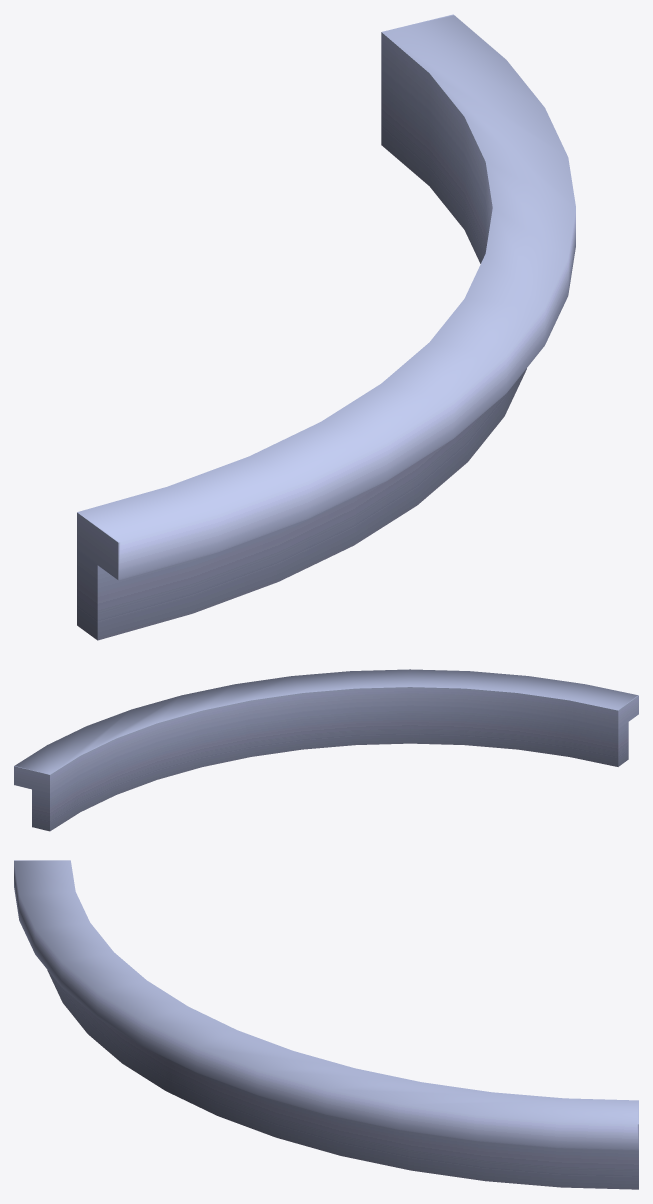
The model's file is border-corner-round.glb.
3 views of the same model, one above another, from view 1: azimuth 30°, elevation 25°; view 2: azimuth 150°, elevation 25°; view 3: azimuth 270°, elevation 25° (orthographic). The views are drawn at different scales.
Visible parts, largest first — view 1: border-corner-round; view 2: border-corner-round; view 3: border-corner-round.
Boxes of the visible parts, box(x1,y1,x2,y2) form: border-corner-round: box(77, 14, 575, 640); border-corner-round: box(14, 669, 638, 831); border-corner-round: box(14, 860, 638, 1189).
Bounding box in the file's own units: 2.2 × 0.3 × 2.2.
Materials: 1 (1 with a texture image).
